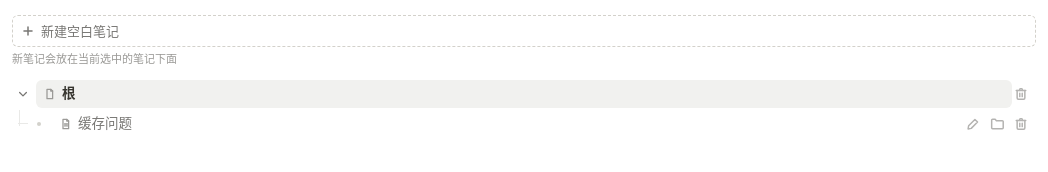
Test case: tree and breadcrumb navigation › collapses and re-expands a branch with a dedicated disclosure control
The image size is (1048, 172).
Click the button named "收起“根”": [23, 94] box [12, 80, 34, 108]
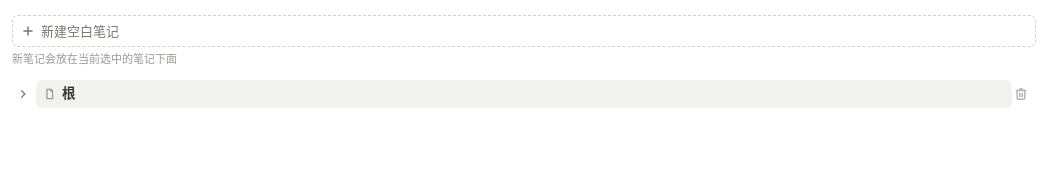
Expected: the button "缓存问题" is gone
Click the button named "展开“根”": [23, 94] box [12, 80, 34, 108]
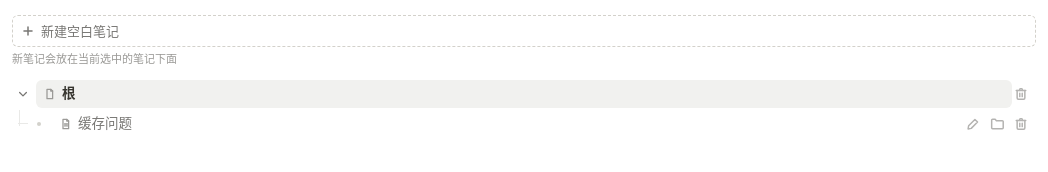
Expected: the button "缓存问题" is shown, [52, 110, 964, 138]
